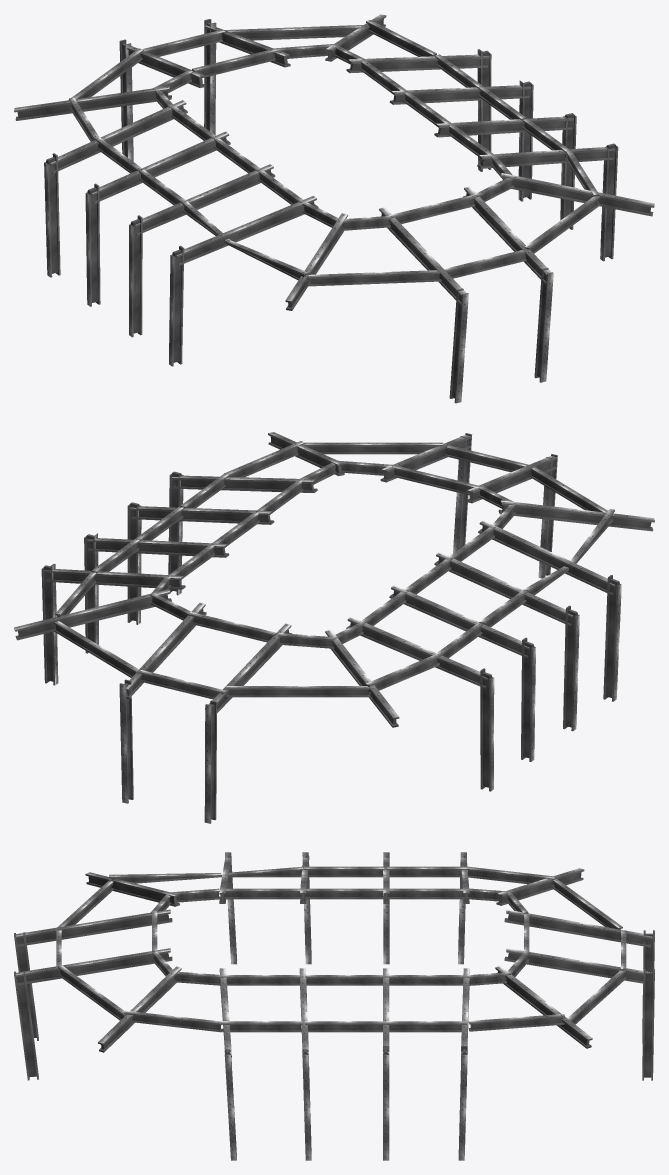
File: RoofRailings.FBX
3 renders of one model, top to bottom at view 1: azimuth 30°, elevation 25°; view 2: azimuth 150°, elevation 25°; view 3: azimuth 270°, elevation 25°, orthographic. The views are drawn at different scales.
Parts seen in each view (by area): view 1: RoofRailings; view 2: RoofRailings; view 3: RoofRailings.
Part boxes in pixels (<box>): RoofRailings: <box>14,14,654,403</box>; RoofRailings: <box>14,432,654,823</box>; RoofRailings: <box>14,852,654,1160</box>.
Bounding box in the file's own units: 79.08 × 23.82 × 106.
